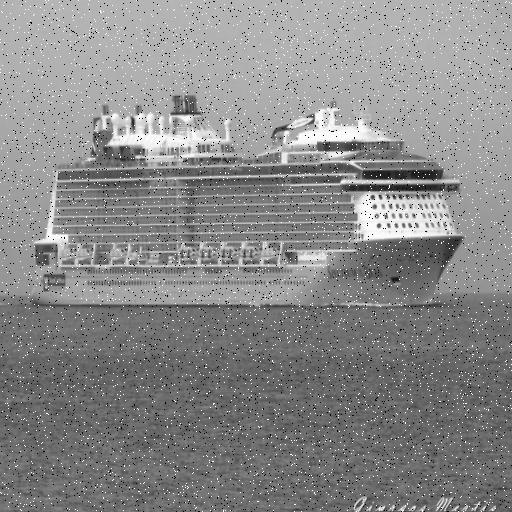cruises: (28, 91, 470, 313)
